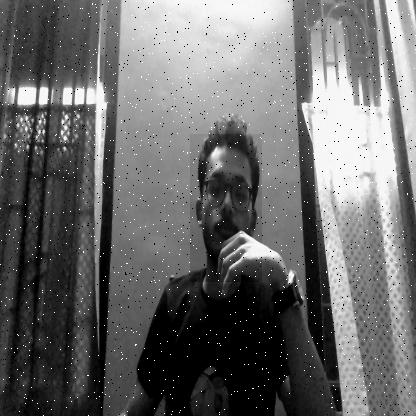Normal: (190, 134, 262, 282)
